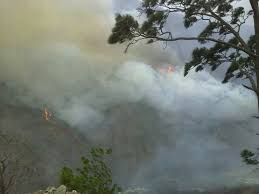yanwu: (1, 0, 259, 184)
